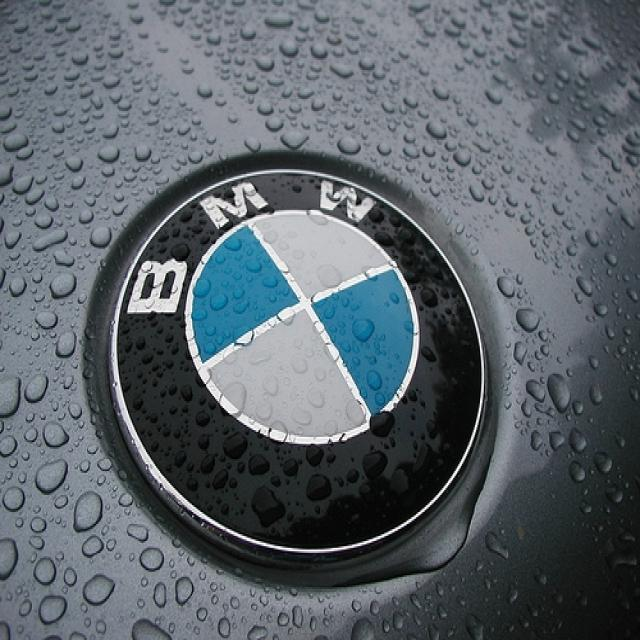bmw: (103, 162, 495, 580)
